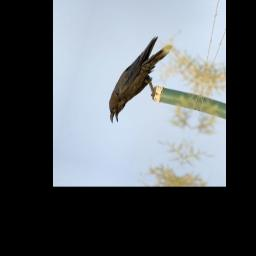Crow: (101, 26, 175, 134)
